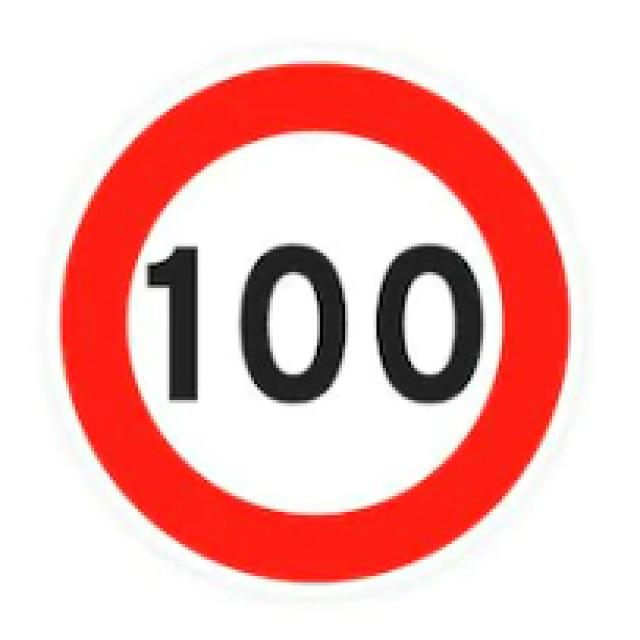Speed Limit -100-: (143, 237, 486, 409)
